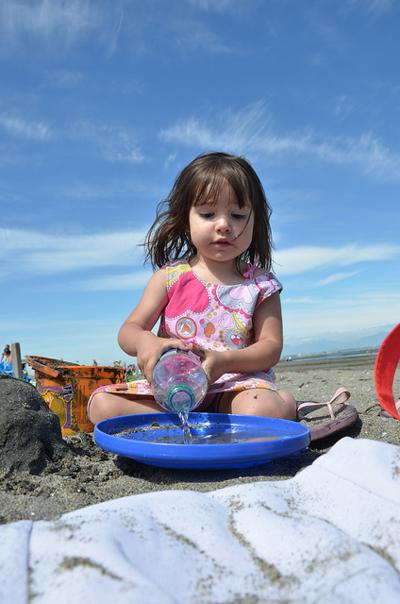person: (88, 152, 296, 428)
